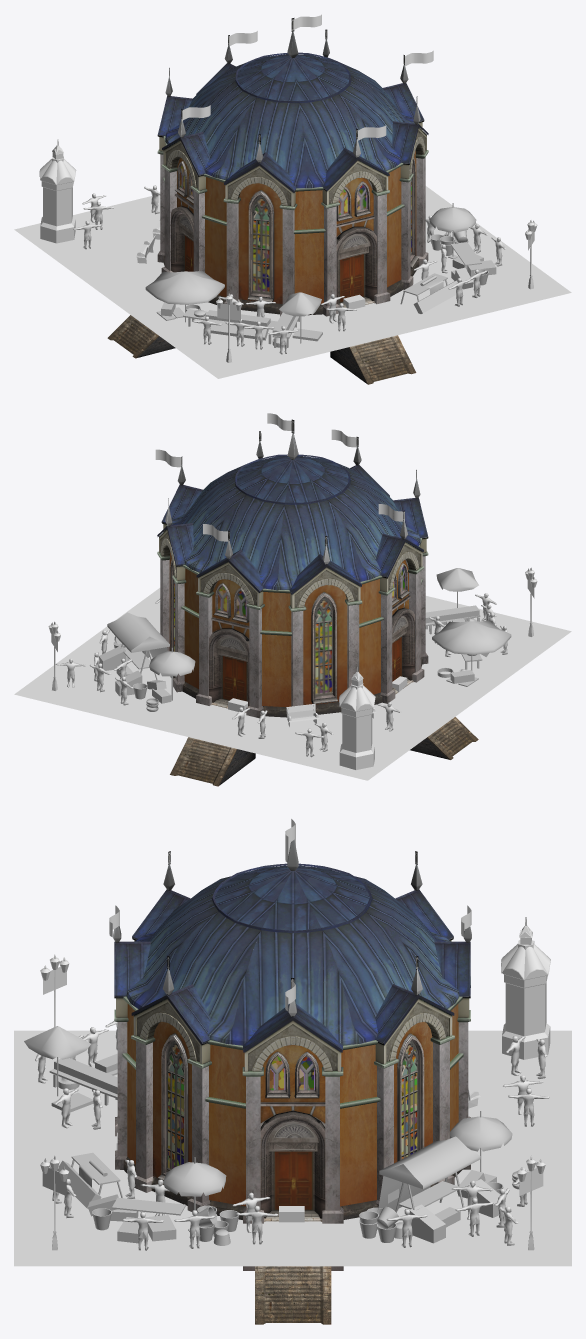
The model's file is community_center.gltf.
3 renders of one model, top to bottom at view 1: azimuth 30°, elevation 25°; view 2: azimuth 150°, elevation 25°; view 3: azimuth 270°, elevation 25°, orthographic. The views are drawn at different scales.
Parts seen in each view (by area): view 1: _lod0, ground, FeedbackBlocker.001, FeedbackBlocker.005, file_advertiser, UnevenBlocker, FeedbackBlocker.004, FeedbackBlocker.002, FeedbackBlocker, FeedbackBlocker.007, file_lightpost3, FeedbackBlocker.003; view 2: _lod0, ground, FeedbackBlocker.003, FeedbackBlocker.005, file_advertiser, FeedbackBlocker.004, FeedbackBlocker.002, UnevenBlocker, FeedbackBlocker, FeedbackBlocker.001, prop_bench1; view 3: _lod0, ground, file_advertiser, FeedbackBlocker.003, FeedbackBlocker.004, FeedbackBlocker, FeedbackBlocker.007, file_lightpost1, file_lightpost2, file_lightpost3.
Boxes of the visible parts, box(x1,y1,x2,y2) form: _lod0: box(107, 18, 496, 384); ground: box(14, 186, 571, 378); FeedbackBlocker.001: box(232, 288, 542, 370); FeedbackBlocker.005: box(46, 243, 240, 375); file_advertiser: box(39, 139, 76, 243); UnevenBlocker: box(118, 232, 454, 322); FeedbackBlocker.004: box(78, 208, 160, 246); FeedbackBlocker.002: box(68, 239, 159, 305); FeedbackBlocker: box(426, 193, 564, 296); FeedbackBlocker.007: box(337, 303, 401, 330); file_lightpost3: box(216, 293, 242, 362); FeedbackBlocker.003: box(75, 200, 160, 228); _lod0: box(99, 419, 511, 786); ground: box(14, 588, 571, 780); FeedbackBlocker.003: box(43, 690, 334, 767); FeedbackBlocker.005: box(375, 627, 564, 759); file_advertiser: box(339, 665, 375, 769); FeedbackBlocker.004: box(184, 705, 340, 758); FeedbackBlocker.002: box(327, 681, 455, 749); UnevenBlocker: box(137, 633, 453, 736); FeedbackBlocker: box(21, 594, 160, 698); FeedbackBlocker.001: box(425, 599, 542, 634); prop_bench1: box(286, 703, 319, 726); _lod0: box(24, 839, 519, 1324); ground: box(14, 1030, 571, 1266); file_advertiser: box(501, 917, 550, 1059); FeedbackBlocker.003: box(531, 1062, 565, 1248); FeedbackBlocker.004: box(468, 1062, 531, 1160); FeedbackBlocker: box(21, 1249, 565, 1263); FeedbackBlocker.007: box(54, 1134, 116, 1162); file_lightpost1: box(516, 1155, 545, 1250); file_lightpost2: box(40, 1155, 69, 1250); file_lightpost3: box(40, 954, 69, 1027).
Size of what is drawn, in the model's own units: 4.1 by 3.19 by 4.1.
